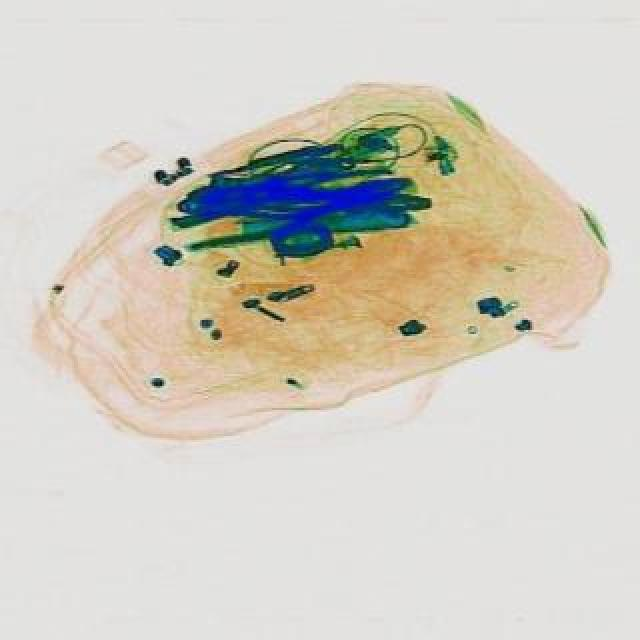wrench: (174, 156, 422, 264)
